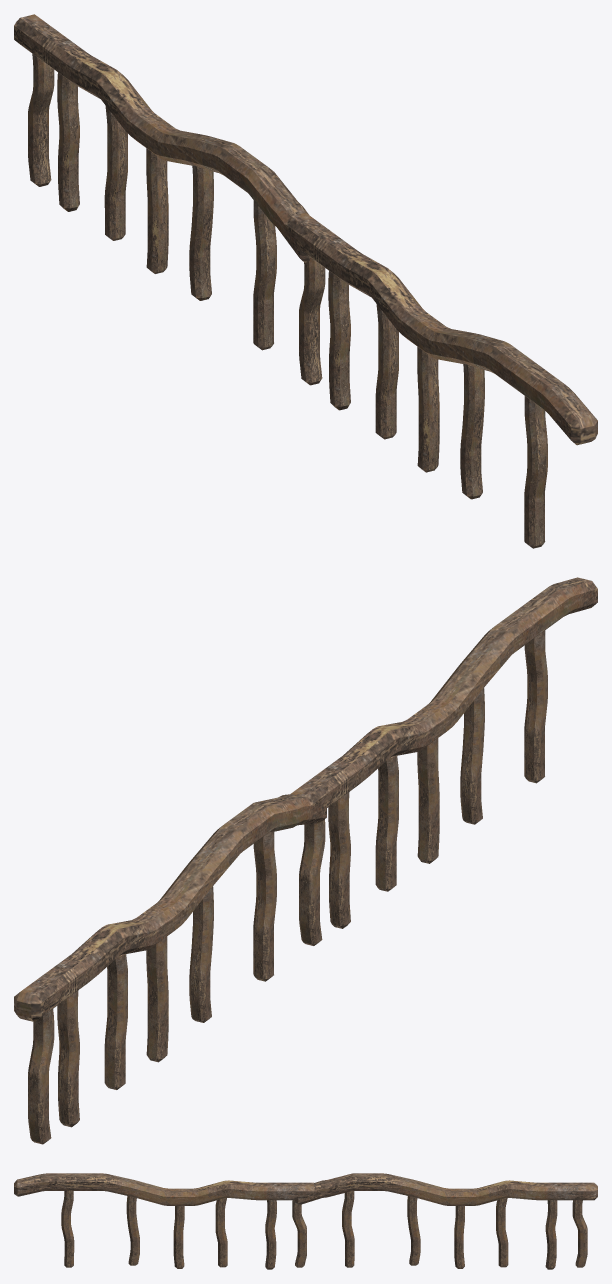
The model's file is fence3.fbx.
3 renders of one model, top to bottom at view 1: azimuth 30°, elevation 25°; view 2: azimuth 150°, elevation 25°; view 3: azimuth 270°, elevation 25°, orthographic. The views are drawn at different scales.
Parts seen in each view (by area): view 1: Fence_model__3_Wood_rough_0.001, Fence_model__3; view 2: Fence_model__3, Fence_model__3_Wood_rough_0.001; view 3: Fence_model__3_Wood_rough_0.001, Fence_model__3.
Part boxes in pixels (x1=…): Fence_model__3_Wood_rough_0.001: x1=285, y1=212, x2=597, y2=548; Fence_model__3: x1=14, y1=14, x2=310, y2=350; Fence_model__3: x1=14, y1=794, x2=326, y2=1144; Fence_model__3_Wood_rough_0.001: x1=290, y1=577, x2=597, y2=945; Fence_model__3_Wood_rough_0.001: x1=14, y1=1173, x2=314, y2=1269; Fence_model__3: x1=294, y1=1173, x2=597, y2=1269.
Size of the model in its own units: 0.2913 by 1.87 by 10.63.
